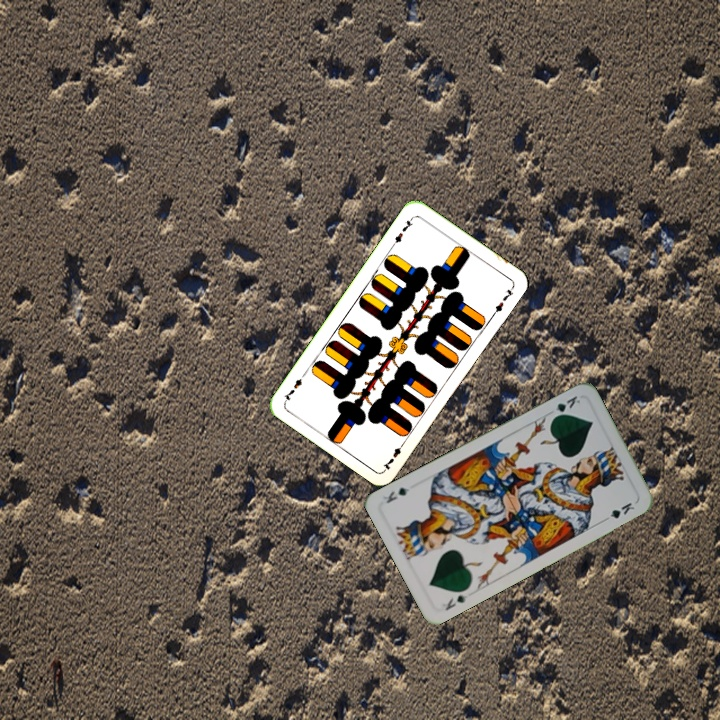E7: (379, 437, 408, 473), (388, 213, 416, 249)
GK: (548, 391, 583, 421), (441, 591, 471, 613)
